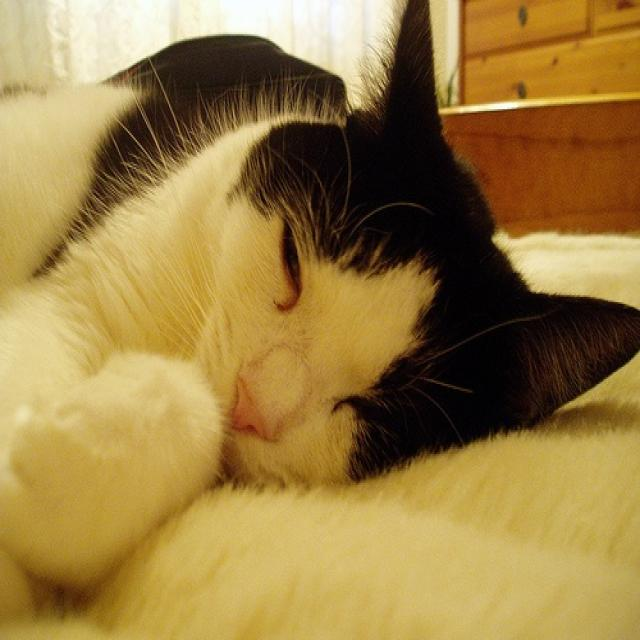cat: (2, 2, 638, 596)
